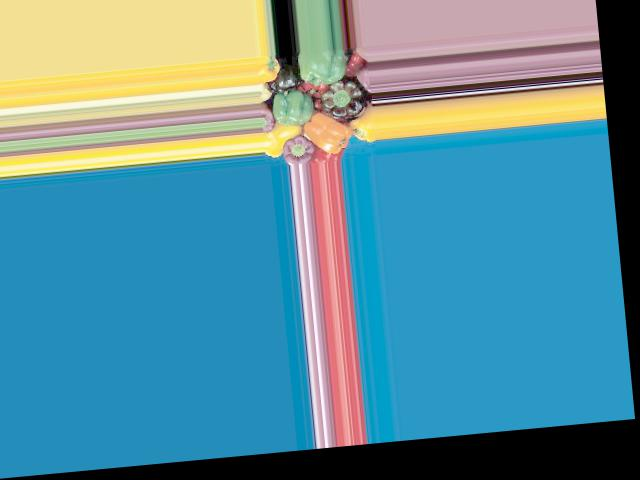bell_pepper: (299, 47, 349, 82)
